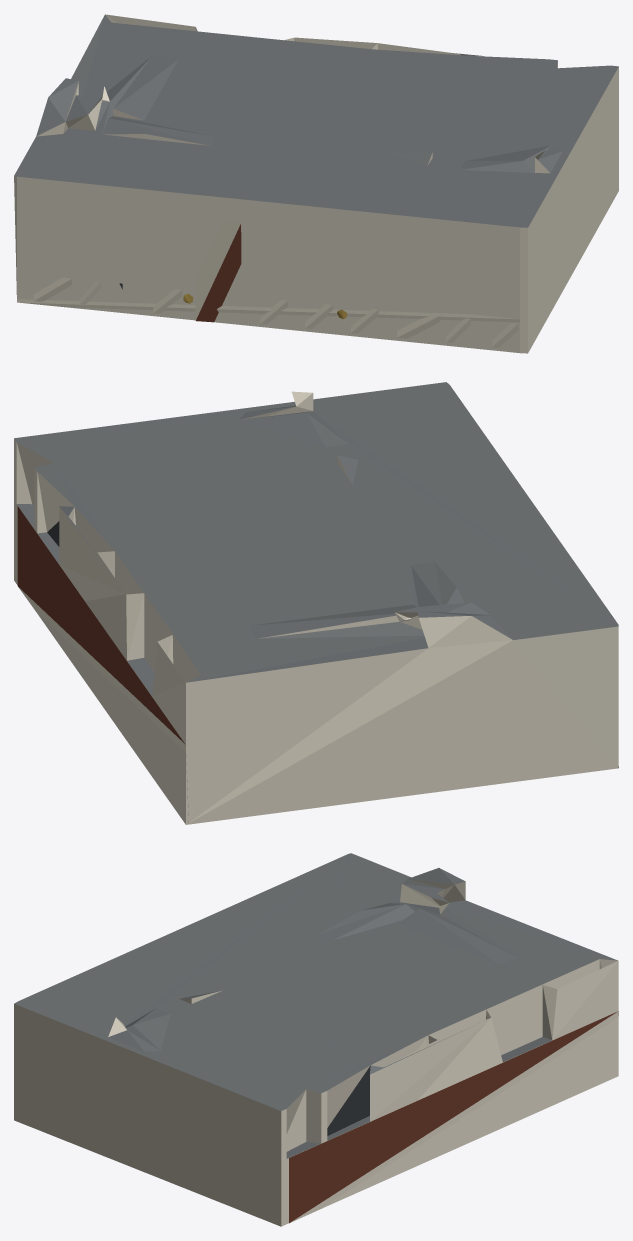
Rendered from willem-de-zwijgerlaan-350.lod2.glb.
3 renders of one model, top to bottom at view 1: azimuth 30°, elevation 25°; view 2: azimuth 150°, elevation 25°; view 3: azimuth 270°, elevation 25°, orthographic. The views are drawn at different scales.
Visible parts, largest first — view 1: lod2; view 2: lod2; view 3: lod2.
Part boxes in pixels (<box>): lod2: <box>14,14,618,353</box>; lod2: <box>14,382,618,824</box>; lod2: <box>14,853,618,1226</box>.
Bounding box in the file's own units: 74.22 × 18.85 × 73.86.
